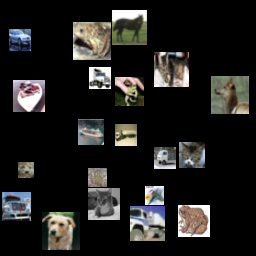airplane: (79, 167, 108, 196), (160, 129, 182, 151)
automobile: (45, 126, 83, 164), (212, 6, 241, 35)
bird: (122, 132, 148, 158), (99, 59, 118, 78)
cat: (15, 113, 44, 142)
deer: (60, 14, 98, 52), (162, 78, 194, 110), (14, 36, 43, 65)
dog: (50, 59, 88, 97), (62, 187, 78, 203)
frog: (176, 209, 214, 247)
ship: (20, 216, 42, 238)
